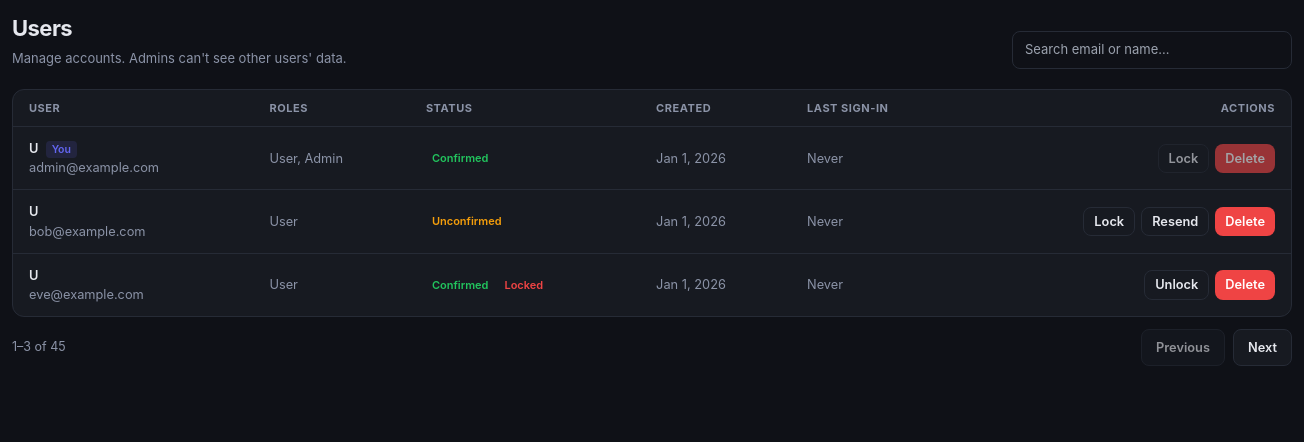
AdminUsersPageComponent › shows the server message when an action is refused
Click the button "Lock" in the row of "bob@example.com" at [1109, 222], box [1083,207,1135,236]
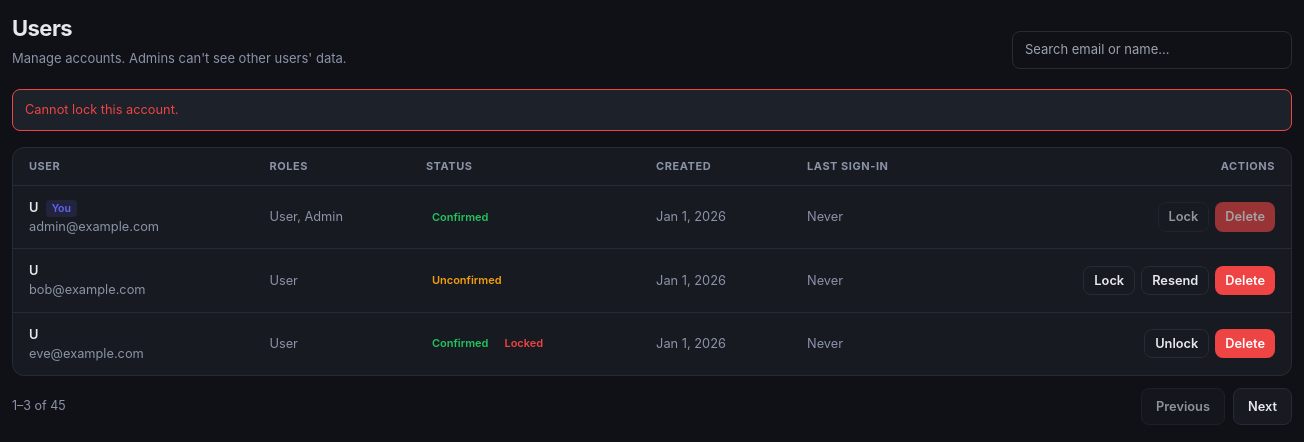
Check: the message "Cannot lock this account." is shown, box [12,88,1292,131]
